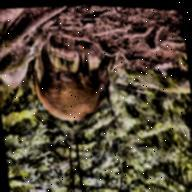boar: (19, 32, 132, 130)
